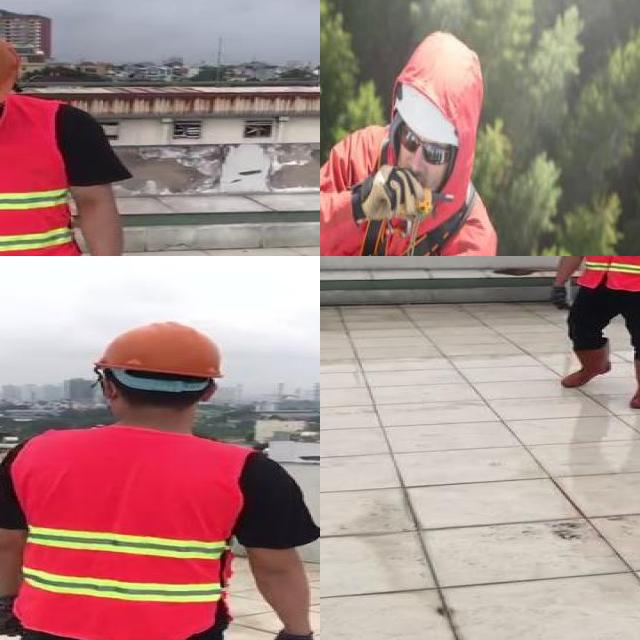Harness: (400, 188, 475, 256)
boots: (561, 343, 611, 388), (627, 358, 640, 410)
hand_glove: (547, 286, 572, 312), (271, 630, 316, 640)
head_helmet: (83, 317, 230, 385)
person: (0, 319, 320, 640), (0, 20, 136, 256), (544, 256, 640, 412)
vest: (14, 428, 238, 640), (0, 96, 81, 256), (577, 256, 640, 291)
